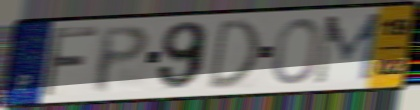9: (156, 19, 214, 93)
D: (205, 16, 263, 93)
F: (38, 25, 100, 100)
M: (311, 10, 384, 87)
O: (270, 16, 323, 87)
P: (92, 23, 153, 96)
